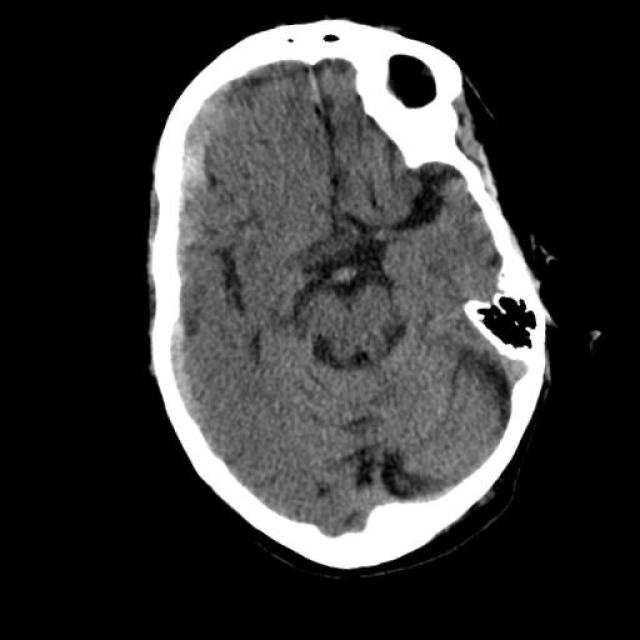Subdural: (120, 72, 252, 268), (122, 301, 248, 450)
